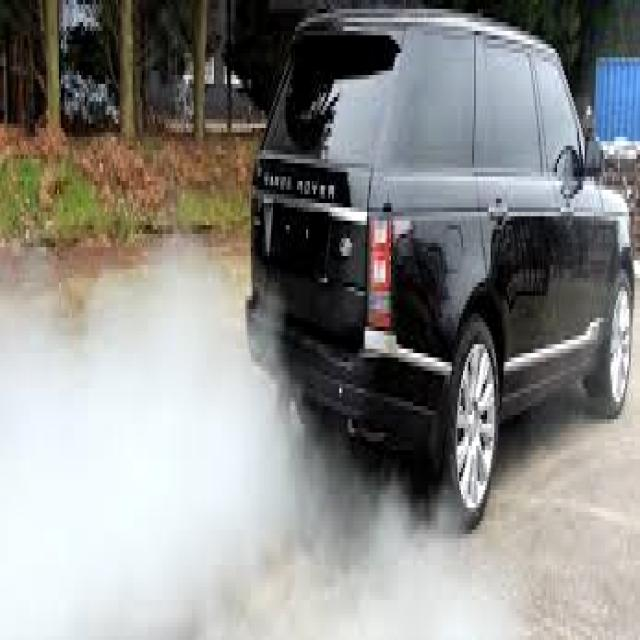no_helmet: (0, 232, 391, 635)
